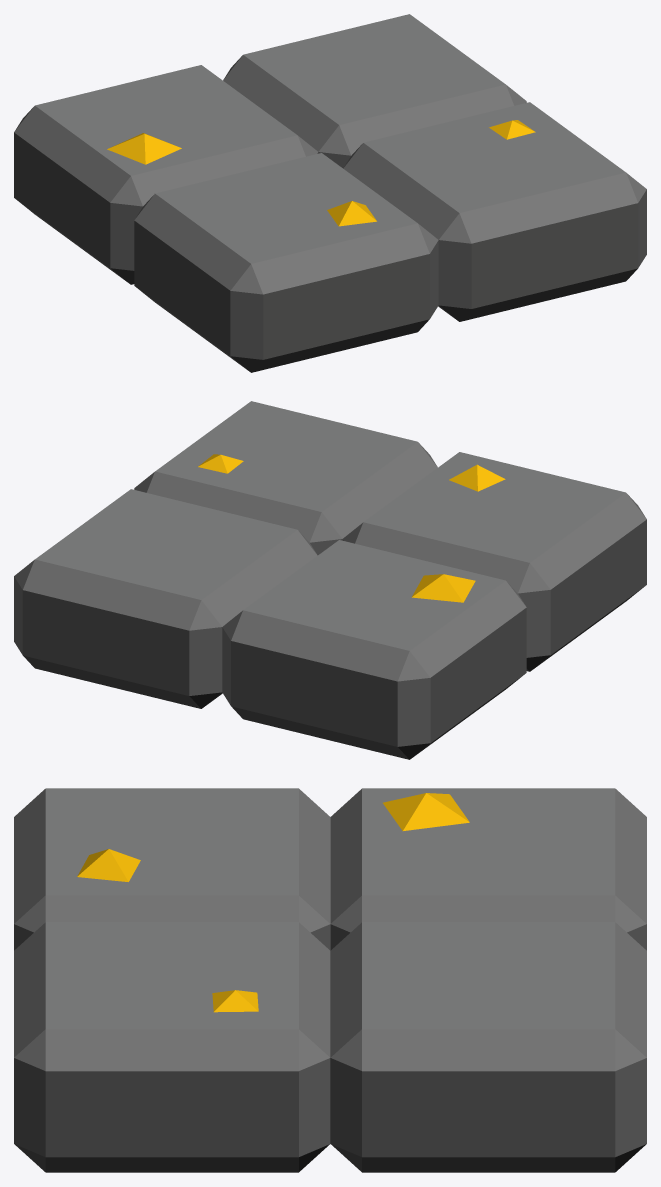
File: m_kub_ore_flatFour.FBX
3 views of the same model, one above another, from view 1: azimuth 30°, elevation 25°; view 2: azimuth 150°, elevation 25°; view 3: azimuth 270°, elevation 25° (orthographic). The views are drawn at different scales.
Parts seen in each view (by area): view 1: m_kub_ore_flatFour; view 2: m_kub_ore_flatFour; view 3: m_kub_ore_flatFour.
Boxes of the visible parts, x1=… form: m_kub_ore_flatFour: x1=14, y1=14, x2=646, y2=372; m_kub_ore_flatFour: x1=14, y1=401, x2=646, y2=759; m_kub_ore_flatFour: x1=14, y1=788, x2=646, y2=1172.
Size of the model in its own units: 2 by 0.5688 by 2.
